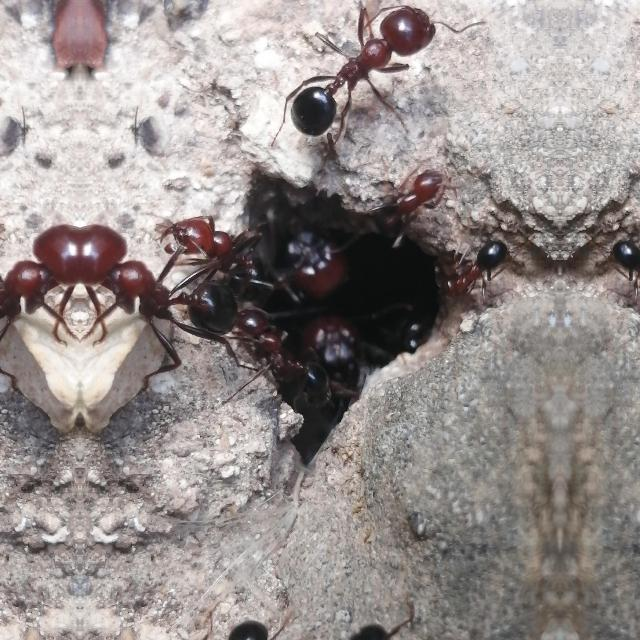Messor: (293, 2, 453, 148), (80, 222, 228, 348), (406, 210, 516, 316), (352, 156, 448, 266), (233, 302, 324, 416), (298, 300, 398, 402), (162, 206, 272, 298), (0, 222, 80, 348), (264, 212, 370, 302), (604, 209, 640, 316)
